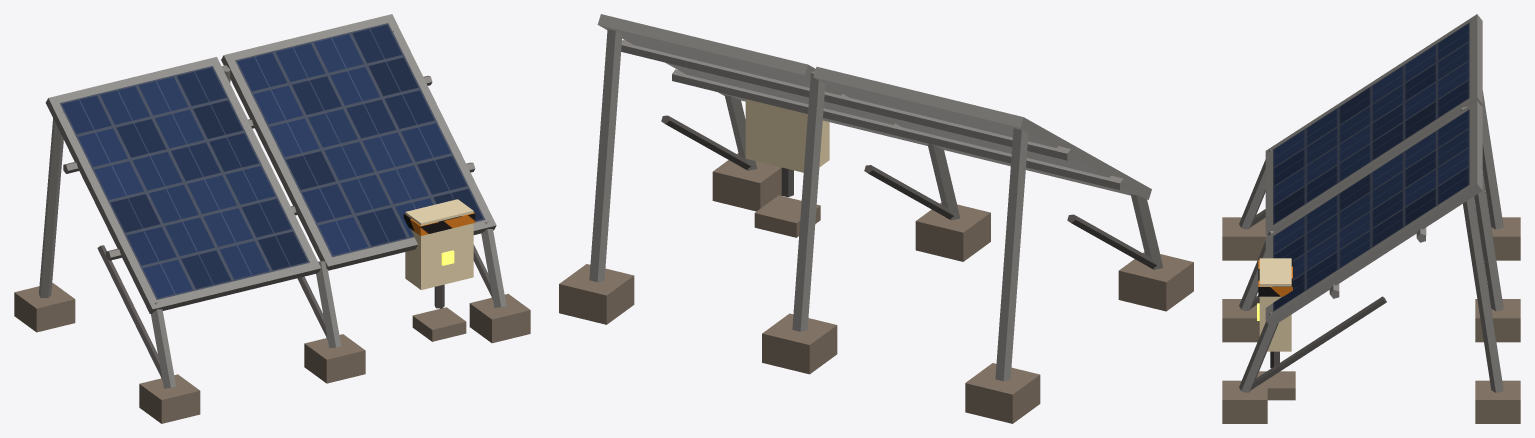
The model's file is solar-T2-kozlik.glb.
The picture shows the model from 3 angles, left to right: view 1: azimuth 30°, elevation 25°; view 2: azimuth 150°, elevation 25°; view 3: azimuth 270°, elevation 25°; orthographic projection. The views are drawn at different scales.
Parts seen in each view (by area): view 1: solar-T2-kozlik; view 2: solar-T2-kozlik; view 3: solar-T2-kozlik.
Part boxes in pixels (bbox=[...]): solar-T2-kozlik: bbox=[14, 14, 530, 423]; solar-T2-kozlik: bbox=[559, 14, 1193, 423]; solar-T2-kozlik: bbox=[1222, 14, 1520, 423].
Size of the model in its own units: 4.37 by 2.61 by 3.02.
Materials: 7 (2 with a texture image).
